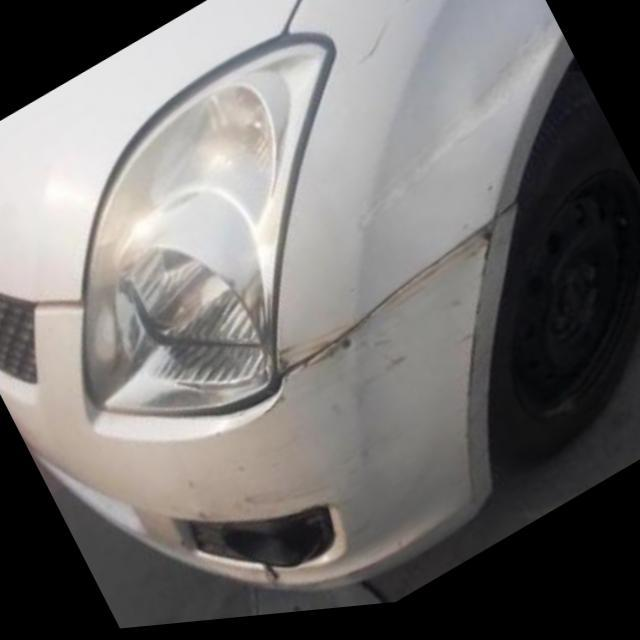dent: (352, 16, 565, 242)
dislocated part: (272, 196, 514, 391)
scratch: (455, 298, 487, 498), (358, 0, 428, 79), (347, 329, 412, 407), (236, 478, 347, 523)
